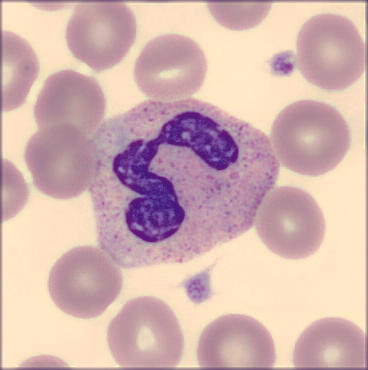WBC: (89, 98, 282, 269)
